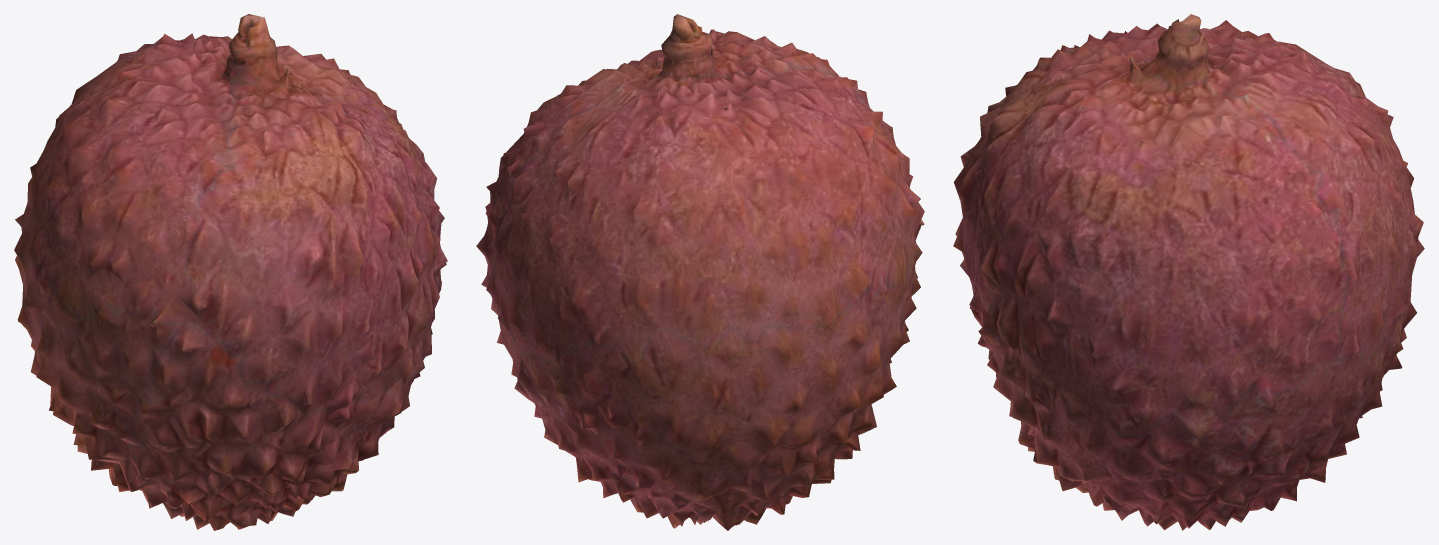
The model's file is food_lychee_01.glb.
3 renders of one model, left to right at view 1: azimuth 30°, elevation 25°; view 2: azimuth 150°, elevation 25°; view 3: azimuth 270°, elevation 25°, orthographic. The views are drawn at different scales.
Parts seen in each view (by area): view 1: food_lychee_01; view 2: food_lychee_01; view 3: food_lychee_01.
Part boxes in pixels (x1,y1,x2,y2): food_lychee_01: (14, 14, 447, 530); food_lychee_01: (476, 14, 924, 530); food_lychee_01: (953, 14, 1424, 530).
Size of the model in its own units: 0.0409 by 0.0506 by 0.042.
Materials: 1 (1 with a texture image).
